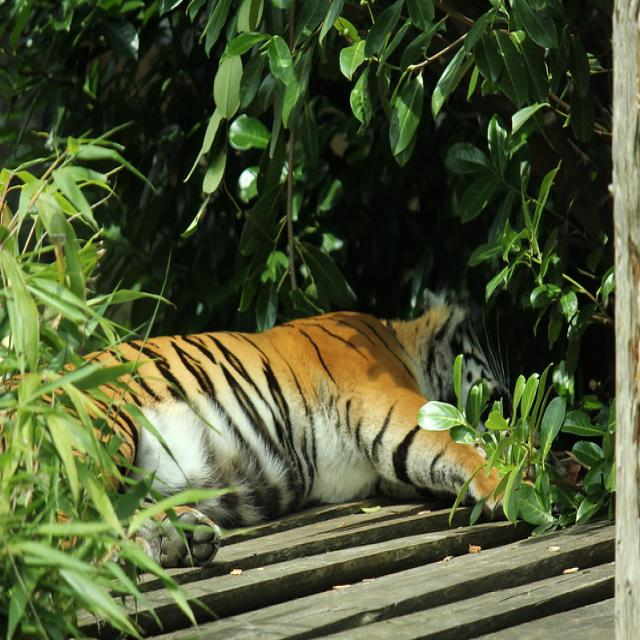Tiger: (0, 283, 517, 575)
